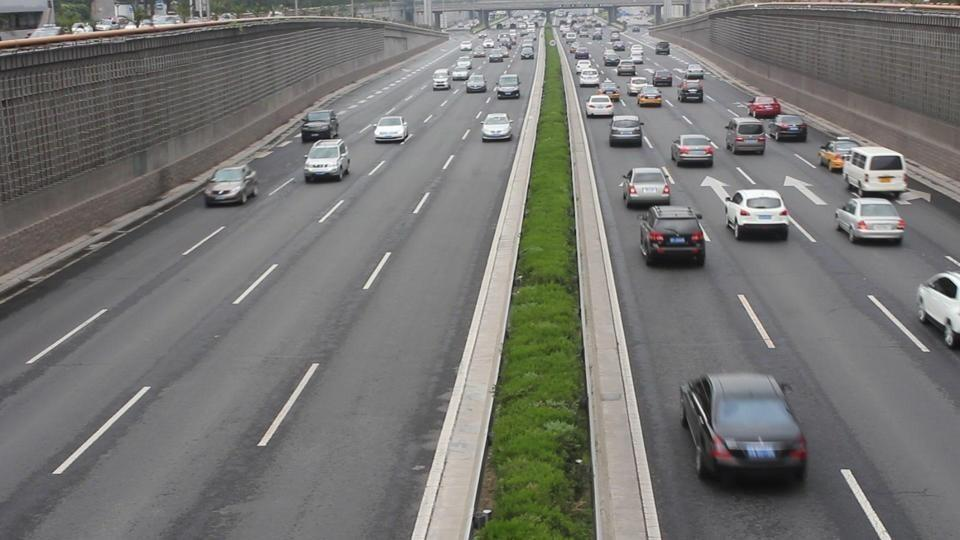car: (677, 371, 809, 487), (638, 205, 707, 267), (834, 196, 908, 246), (915, 270, 960, 350), (842, 144, 909, 197), (723, 188, 791, 240), (203, 164, 259, 207), (619, 167, 674, 209), (302, 139, 352, 183), (670, 132, 716, 167), (725, 119, 767, 156), (301, 109, 340, 143), (608, 113, 644, 148), (373, 115, 410, 145), (479, 112, 512, 142), (495, 73, 522, 99), (585, 94, 614, 118), (637, 87, 664, 108), (465, 73, 486, 94), (452, 59, 472, 80), (433, 70, 451, 90)
